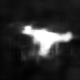plane: (19, 23, 74, 61)
